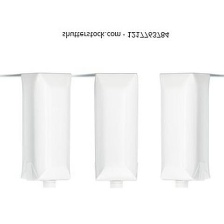carton: (17, 69, 76, 191), (155, 70, 213, 190), (91, 70, 141, 189)
